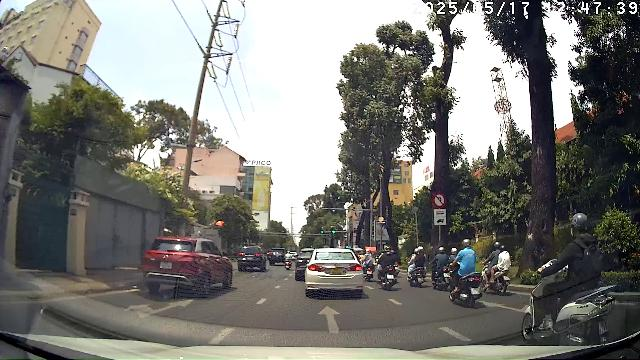123a-cam-re-trai: (431, 192, 446, 208)
